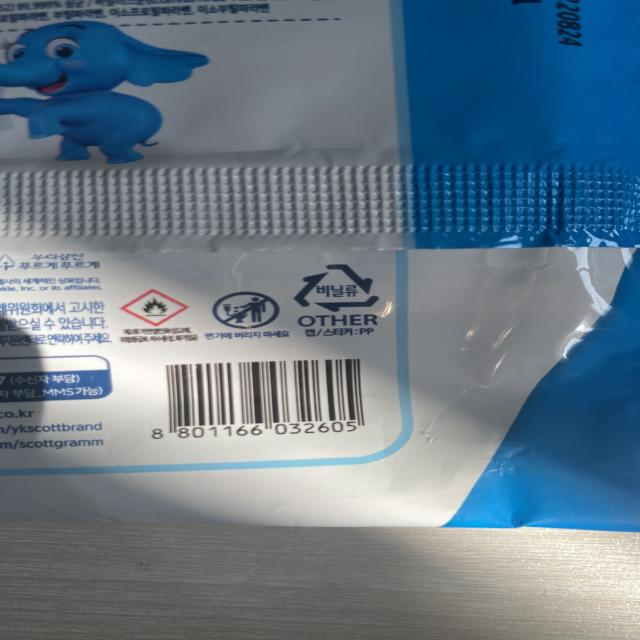Vinyl: (286, 259, 393, 318)
